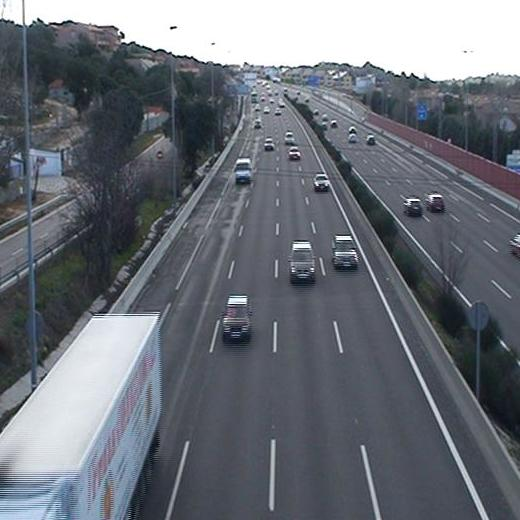car: (221, 294, 253, 341), (288, 242, 317, 285), (329, 235, 361, 271), (313, 174, 329, 192), (287, 147, 302, 161), (283, 130, 296, 144), (263, 137, 274, 150)
van: (232, 158, 255, 185)
